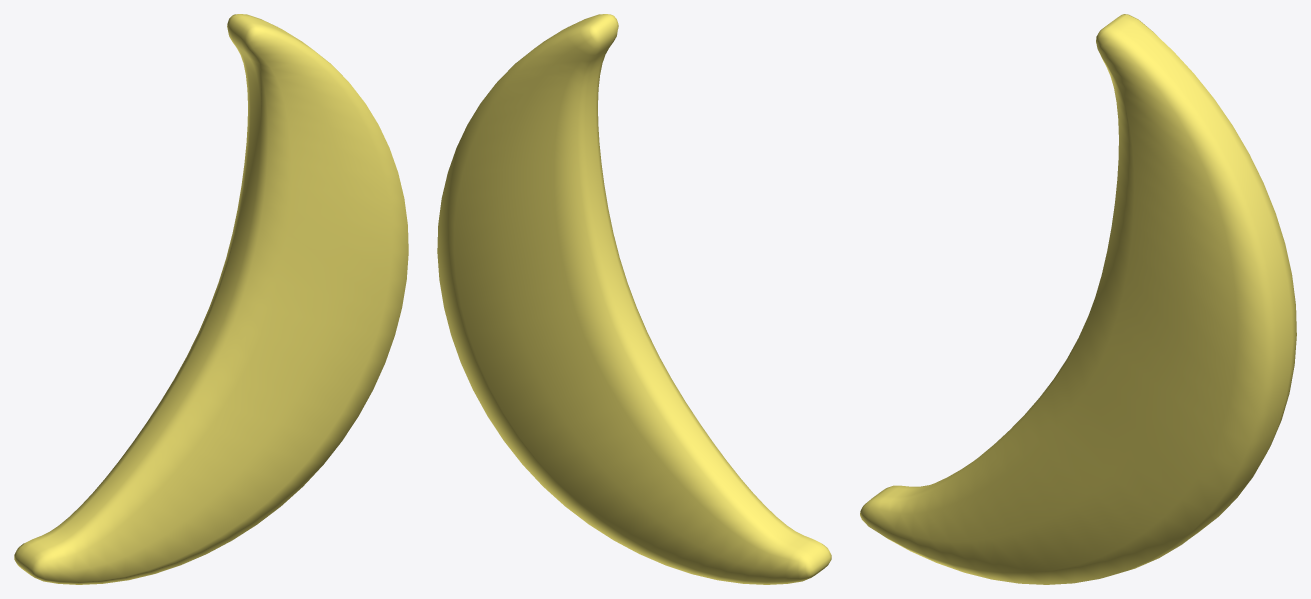
Rendered from crescent_moon.glb.
3 renders of one model, left to right at view 1: azimuth 30°, elevation 25°; view 2: azimuth 150°, elevation 25°; view 3: azimuth 330°, elevation 25°, orthographic. The views are drawn at different scales.
Visible parts, largest first — view 1: Circle.2104; view 2: Circle.2104; view 3: Circle.2104.
Boxes of the visible parts, x1,y1,x2,y2 form: Circle.2104: [14, 14, 408, 584]; Circle.2104: [437, 14, 831, 584]; Circle.2104: [860, 14, 1296, 584].
Size of the model in its own units: 1.78 by 2.38 by 0.3212.
Materials: 1 (1 with a texture image).
